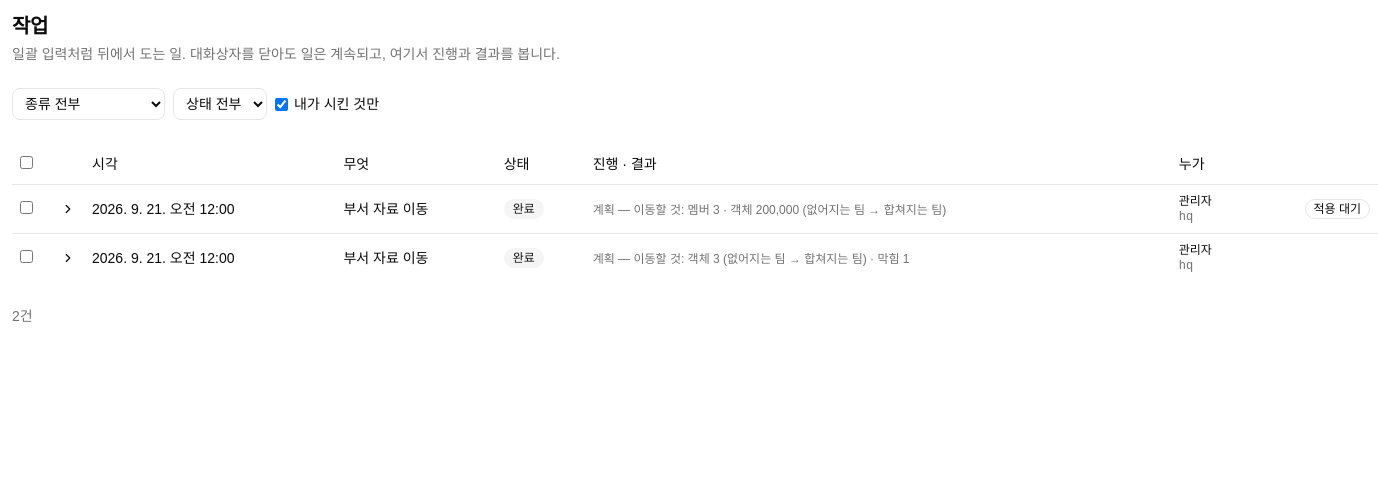
작업 화면 › 부서 자료 이동의 계획도 펼쳐 읽고 적용한다 — 막히는 것이 있으면 적용이 안 선다
The width and height of the screenshot is (1378, 488).
expect the text "계획 — 이동할 것: 멤버 3 · 객체 200,000 (없어지는 팀 → 합쳐지는 팀)" is shown: met, box [593,202,946,216]
expect the text "적용 대기" is shown once: met, box [1304,199,1370,219]
Click the button named "펼치기" in the row of "적용 대기" at (68, 208), box [52,196,84,220]
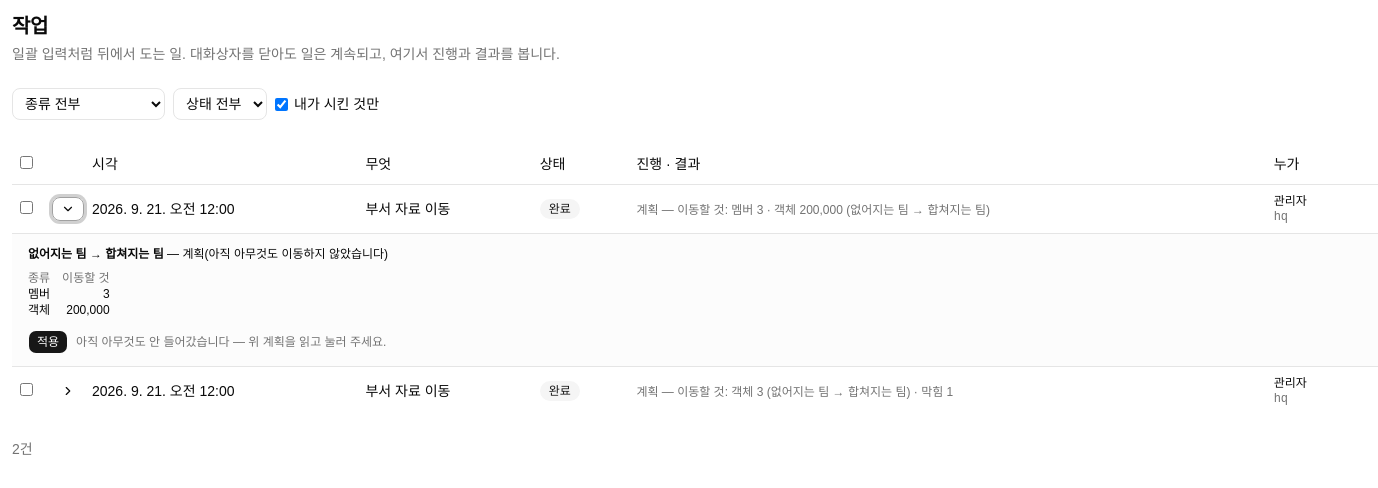
expect the text "200,000" is shown: met, box [62,302,122,318]
Click the button "적용" at (48, 342), box [28,330,68,354]
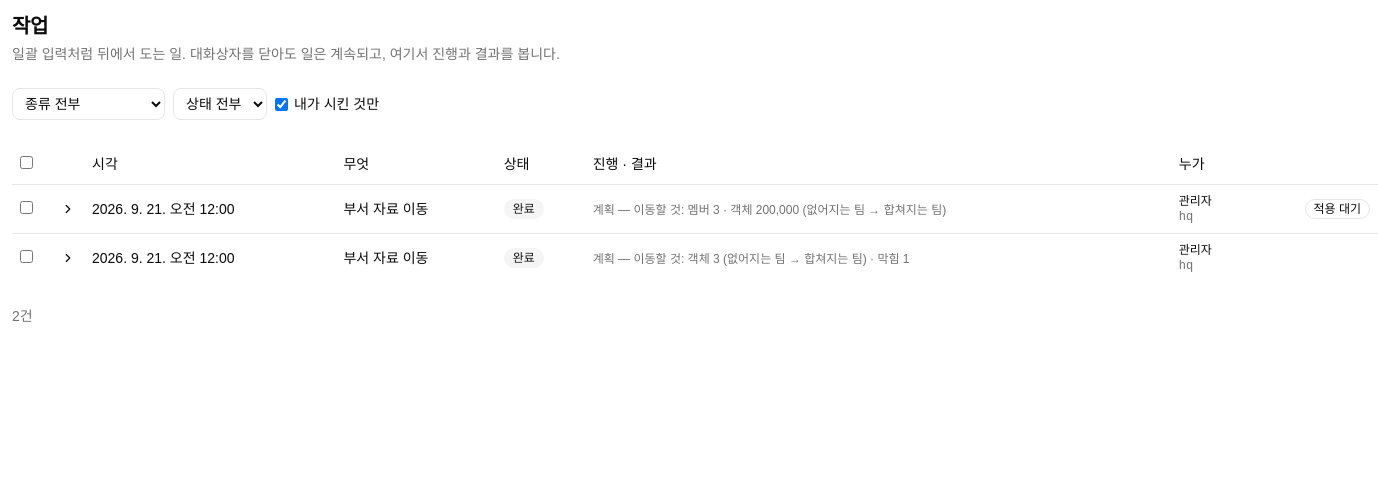
Click the 2nd button named "펼치기" at (68, 258), box [52,246,84,270]
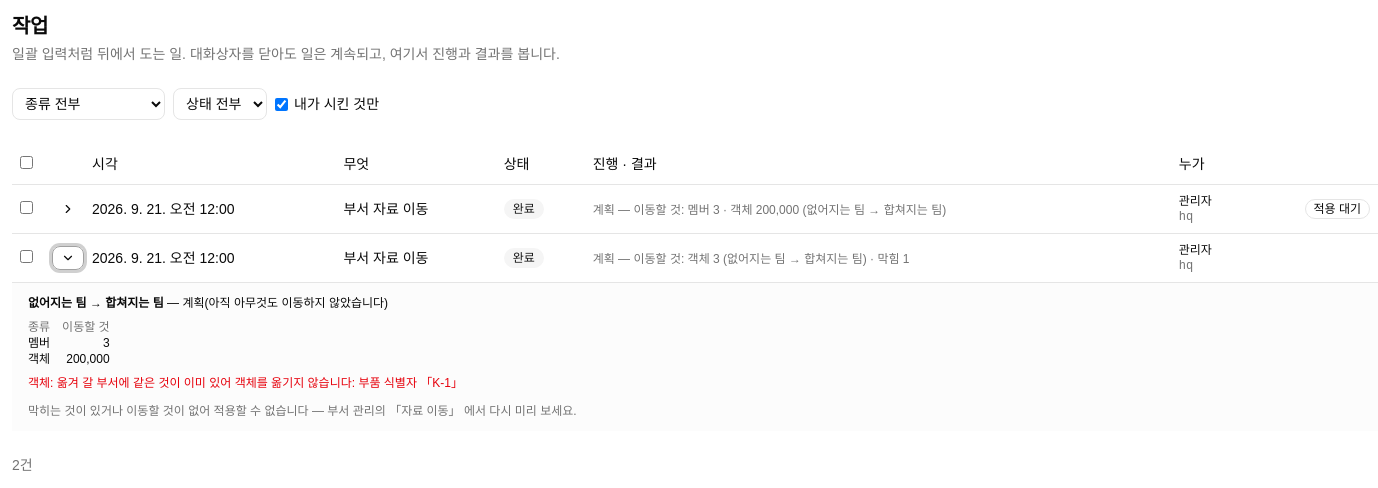
expect the text "객체: 옮겨 갈 부서에 같은 것이 이미 있어 객체를 옮기지 않습니다: 부품 식별자 「K-1」" is shown: met, box [28,376,463,390]
expect the text "막히는 것이 있거나 이동할 것이 없어" is shown: met, box [28,404,577,418]
